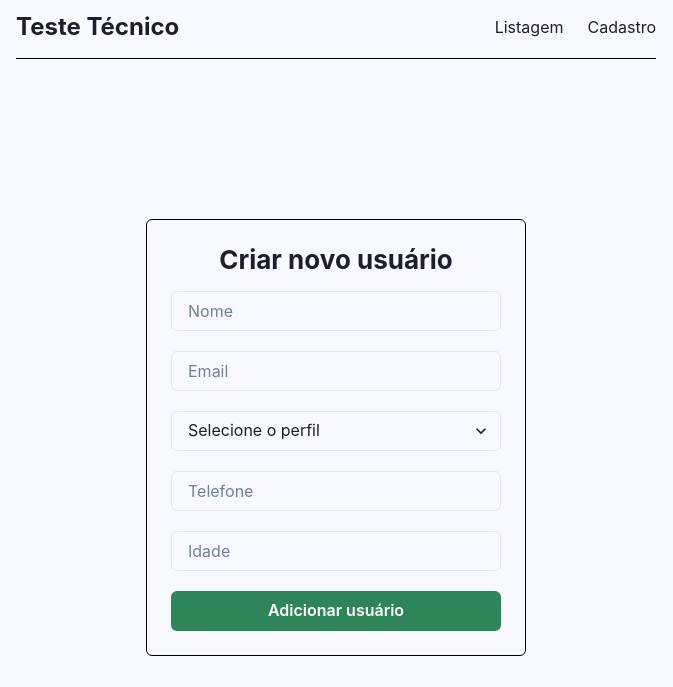
form test › deve exibir mensagem de erro quando enviar formulário com campos vazios
Click the button "Adicionar usuário" at (336, 611), box [171,591,501,631]
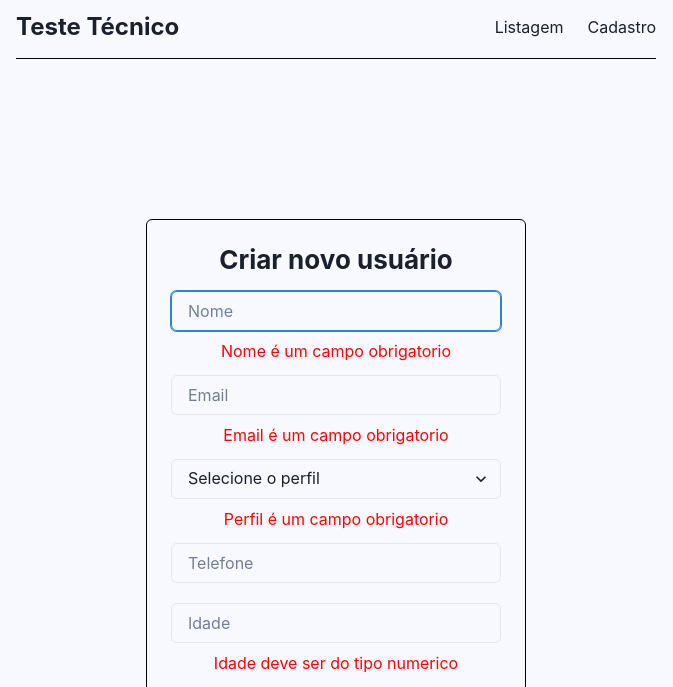
expect the text "Nome é um campo obrigatorio" is shown: met, box [221,339,451,363]
expect the text "Email é um campo obrigatorio" is shown: met, box [223,423,449,447]
expect the text "Perfil é um campo obrigatorio" is shown: met, box [224,507,448,531]
